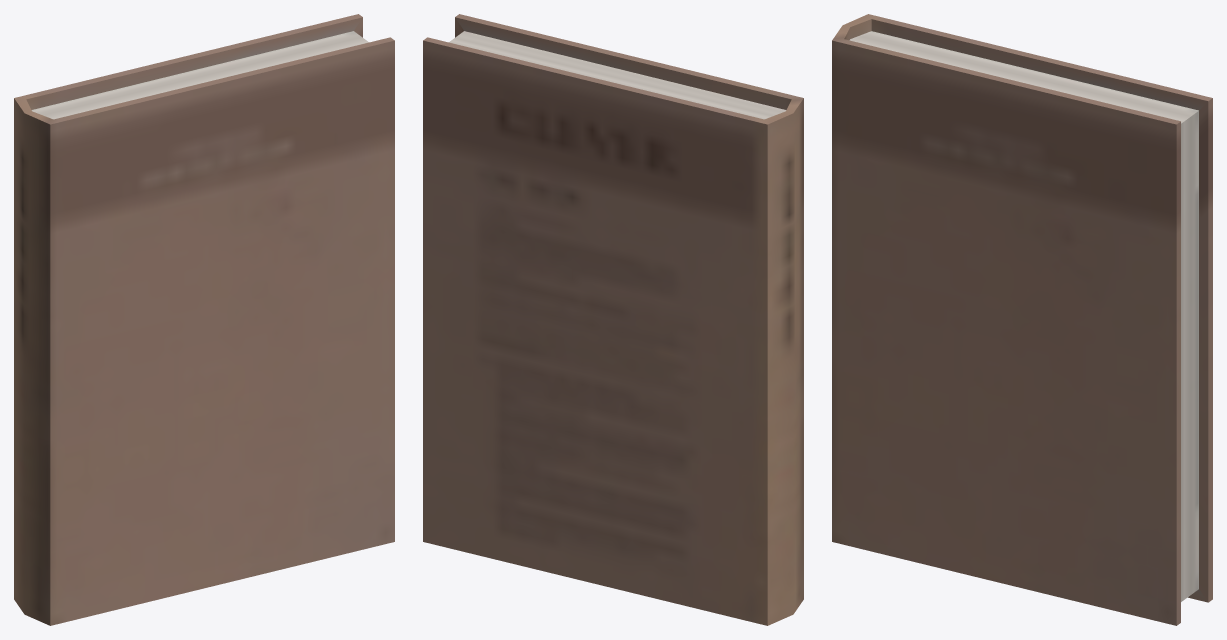
Rendered from Book_C.FBX.
3 views of the same model, side by side, from view 1: azimuth 30°, elevation 25°; view 2: azimuth 150°, elevation 25°; view 3: azimuth 330°, elevation 25° (orthographic).
Visible parts, largest first — view 1: Book_C; view 2: Book_C; view 3: Book_C.
Part boxes in pixels (x1,y1,x2,y2): Book_C: (14, 14, 394, 625); Book_C: (423, 14, 803, 625); Book_C: (832, 14, 1212, 625).
Bounding box in the file's own units: 17.7 × 24.08 × 3.15.
